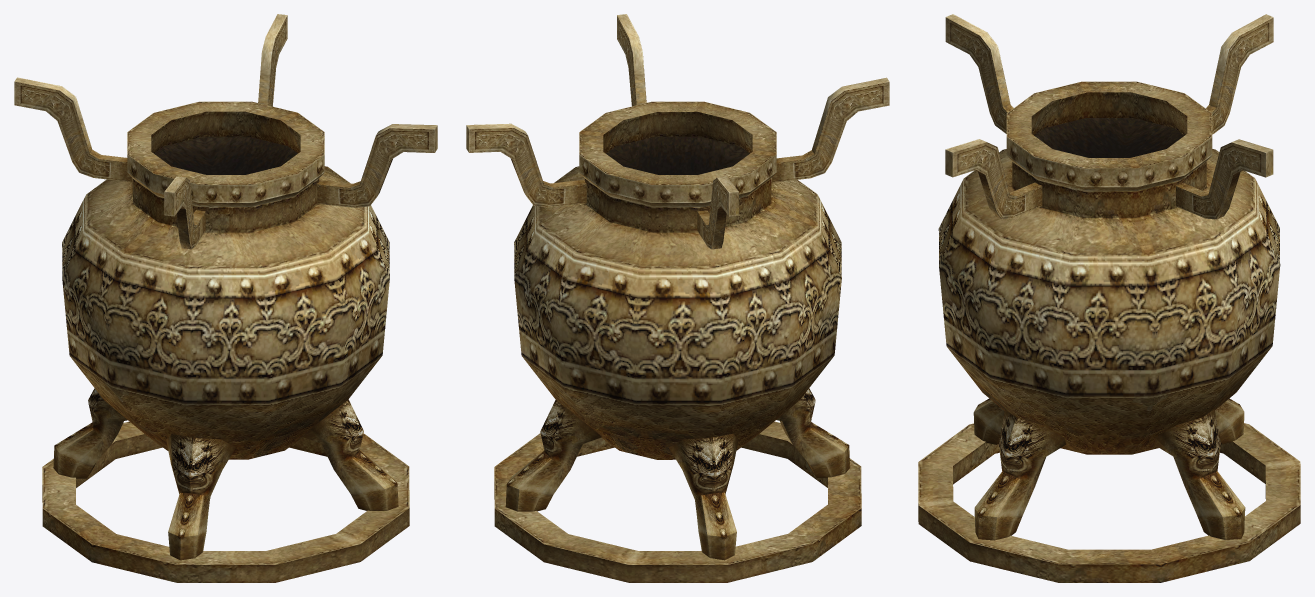
File: otherworld_brazier_01.glb
3 views of the same model, side by side, from view 1: azimuth 30°, elevation 25°; view 2: azimuth 150°, elevation 25°; view 3: azimuth 270°, elevation 25° (orthographic). The views are drawn at different scales.
Parts seen in each view (by area): view 1: otherworld_brazier_01; view 2: otherworld_brazier_01; view 3: otherworld_brazier_01.
Boxes of the visible parts, <box> form: otherworld_brazier_01: <box>14,14,437,582</box>; otherworld_brazier_01: <box>466,14,889,582</box>; otherworld_brazier_01: <box>918,14,1300,582</box>.
Bounding box in the file's own units: 3.18 × 3.84 × 3.18.
Materials: 1 (1 with a texture image).
